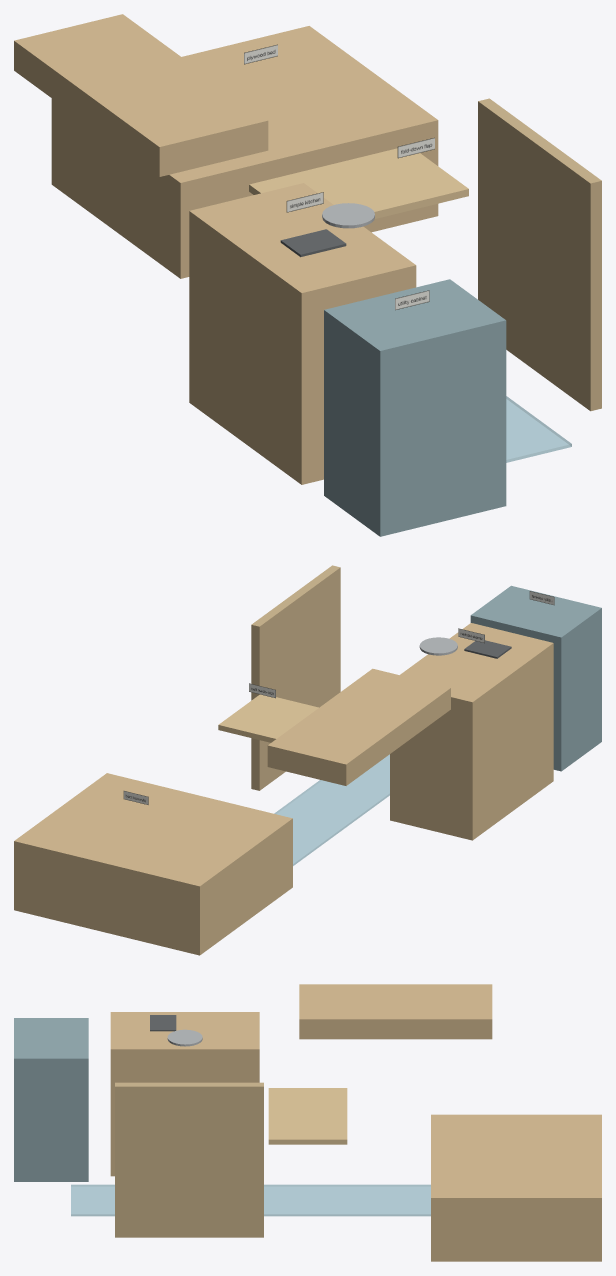
Rendered from interior-finish-layer.dae.
The picture shows the model from 3 angles, top to bottom: view 1: azimuth 30°, elevation 25°; view 2: azimuth 150°, elevation 25°; view 3: azimuth 270°, elevation 25°; orthographic projection. The views are drawn at different scales.
Parts seen in each view (by area): view 1: utility cabinet with water jug and battery, simple kitchenette cabinet, plywood bed platform, replaceable repair panel leaning inside, open wall shelf, plain hinged plywood work/eating flap, central movement path - keep clear, round sink basin.004, two-burner hotplate.004; view 2: plywood bed platform, simple kitchenette cabinet, open wall shelf, utility cabinet with water jug and battery, replaceable repair panel leaning inside, central movement path - keep clear, plain hinged plywood work/eating flap, round sink basin.004, two-burner hotplate.004; view 3: plywood bed platform, replaceable repair panel leaning inside, utility cabinet with water jug and battery, open wall shelf, simple kitchenette cabinet, central movement path - keep clear, plain hinged plywood work/eating flap, round sink basin.004, two-burner hotplate.004.
Boxes of the visible parts, x1=… form: utility cabinet with water jug and battery: x1=324, y1=279, x2=506, y2=536; simple kitchenette cabinet: x1=189, y1=183, x2=416, y2=484; plywood bed platform: x1=51, y1=26, x2=438, y2=278; replaceable repair panel leaning inside: x1=478, y1=98, x2=601, y2=411; open wall shelf: x1=14, y1=14, x2=268, y2=176; plain hinged plywood work/eating flap: x1=249, y1=148, x2=468, y2=218; central movement path - keep clear: x1=506, y1=396, x2=571, y2=462; round sink basin.004: x1=322, y1=203, x2=374, y2=228; two-burner hotplate.004: x1=280, y1=229, x2=346, y2=257; plywood bed platform: x1=14, y1=773, x2=292, y2=955; simple kitchenette cabinet: x1=390, y1=623, x2=553, y2=840; open wall shelf: x1=267, y1=668, x2=450, y2=785; utility cabinet with water jug and battery: x1=470, y1=585, x2=601, y2=771; replaceable repair panel leaning inside: x1=251, y1=565, x2=340, y2=790; central movement path - keep clear: x1=274, y1=754, x2=389, y2=865; plain hinged plywood work/eating flap: x1=218, y1=694, x2=318, y2=742; round sink basin.004: x1=419, y1=637, x2=457, y2=655; two-burner hotplate.004: x1=464, y1=640, x2=511, y2=658; plywood bed platform: x1=431, y1=1114, x2=601, y2=1261; replaceable repair panel leaning inside: x1=115, y1=1082, x2=263, y2=1237; utility cabinet with water jug and battery: x1=14, y1=1018, x2=88, y2=1181; open wall shelf: x1=299, y1=984, x2=492, y2=1039; simple kitchenette cabinet: x1=110, y1=1012, x2=259, y2=1176; central movement path - keep clear: x1=71, y1=1184, x2=430, y2=1216; plain hinged plywood work/eating flap: x1=268, y1=1088, x2=347, y2=1144; round sink basin.004: x1=167, y1=1029, x2=202, y2=1046; two-burner hotplate.004: x1=150, y1=1015, x2=176, y2=1031.
Bounding box in the file's own units: 1.68 × 3.4 × 0.9906.
14 materials, 6 textured.
